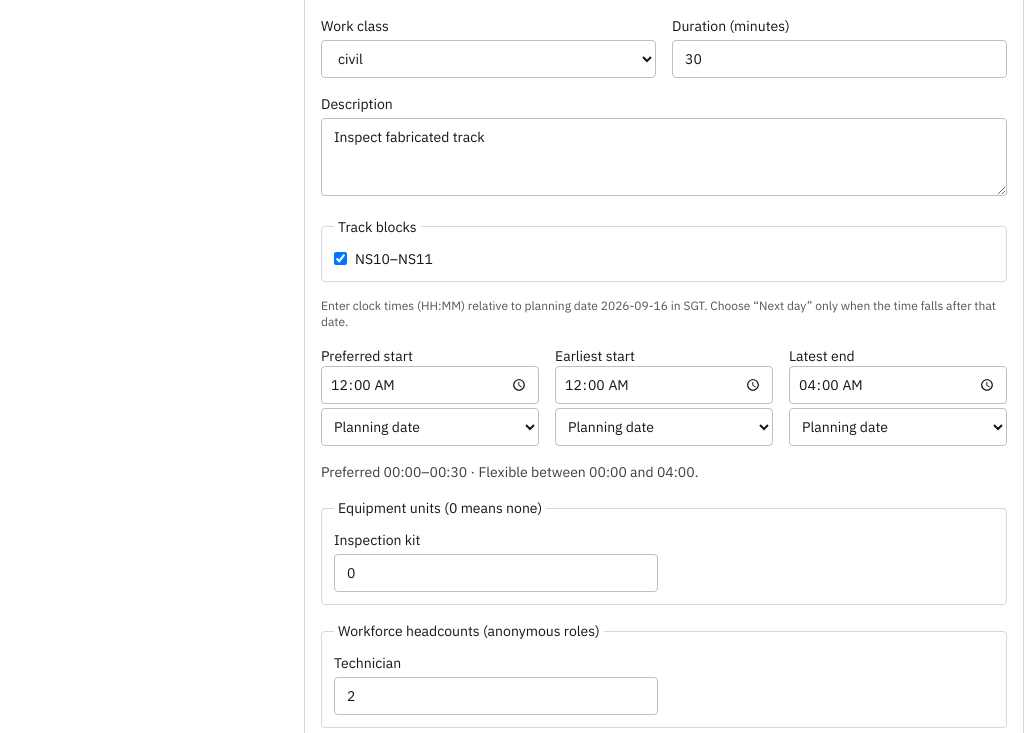
it: structured request intake › does not save a cleared required clock as midnight or null
The image size is (1024, 733).
(page scrolled)
Clear the time field labelled "Preferred start". click: (430, 385)
box: [321, 366, 539, 404]
(page scrolled)
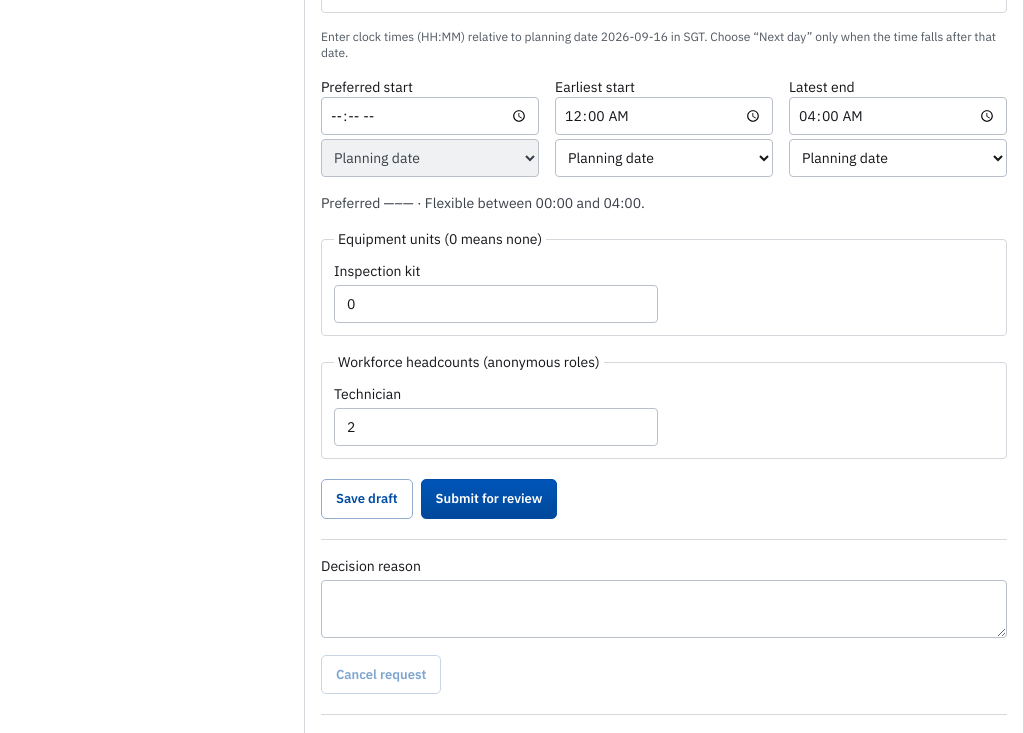
Click the button "Save draft". click: (367, 499)
box: [321, 479, 413, 519]
(page scrolled)
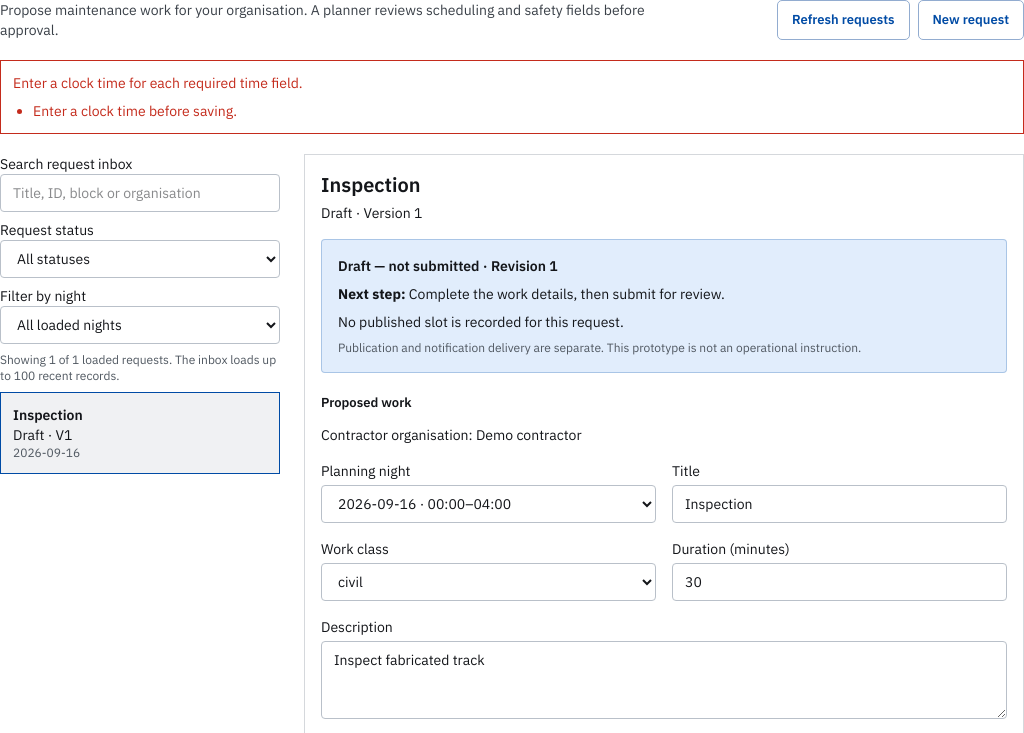
Check: the message shows "Enter a clock time", box [13, 74, 303, 92]
